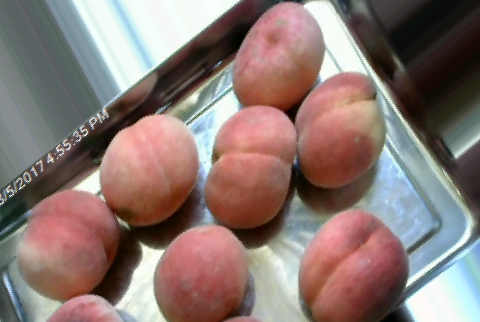Peach: (297, 207, 407, 322), (98, 112, 200, 224), (203, 105, 296, 226), (16, 190, 117, 299), (293, 72, 385, 189), (234, 1, 325, 108), (153, 224, 251, 321)
